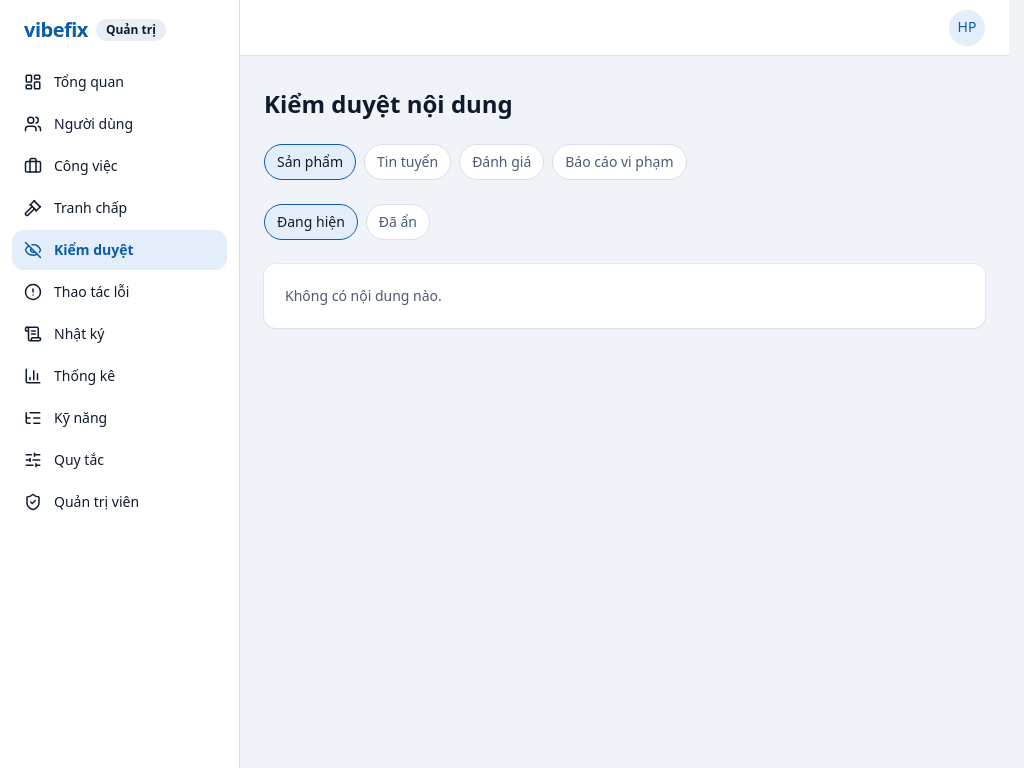
ADM-6 moderation (FR-60) › shows a recruitment note as filed, and leads to the Mentor with no way to hide it
Click the tab "Báo cáo vi phạm" at (619, 162), box [552,144,687,180]
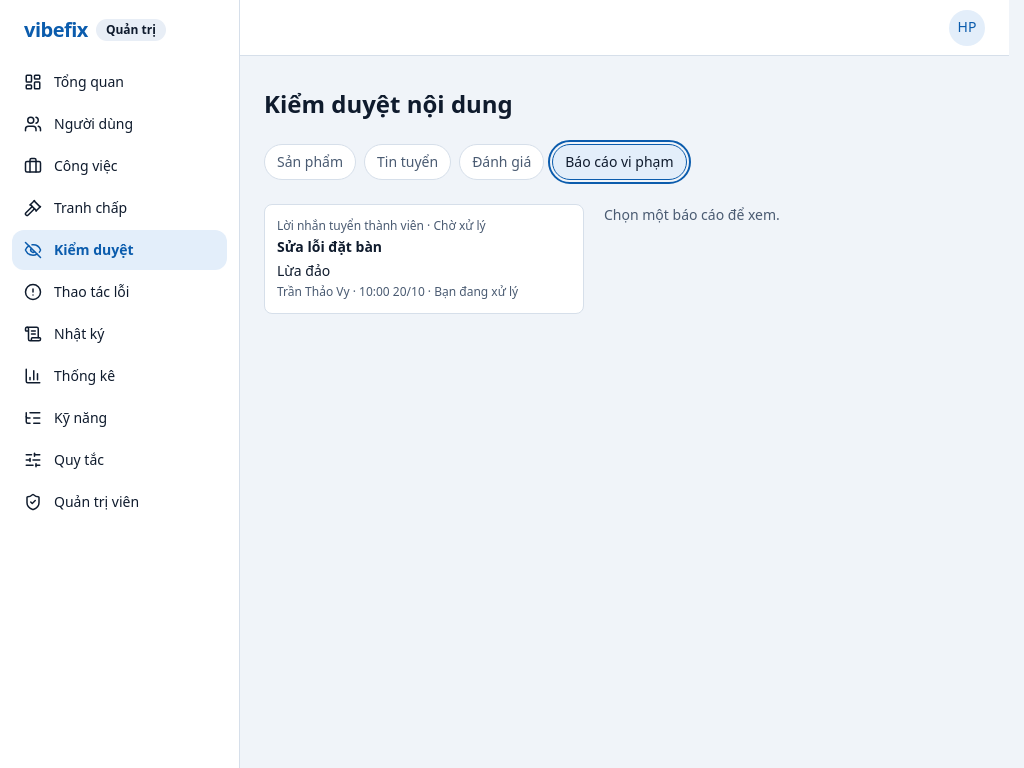
Click the button "Lừa đảo" at (350, 226), box [264,204,584,314]
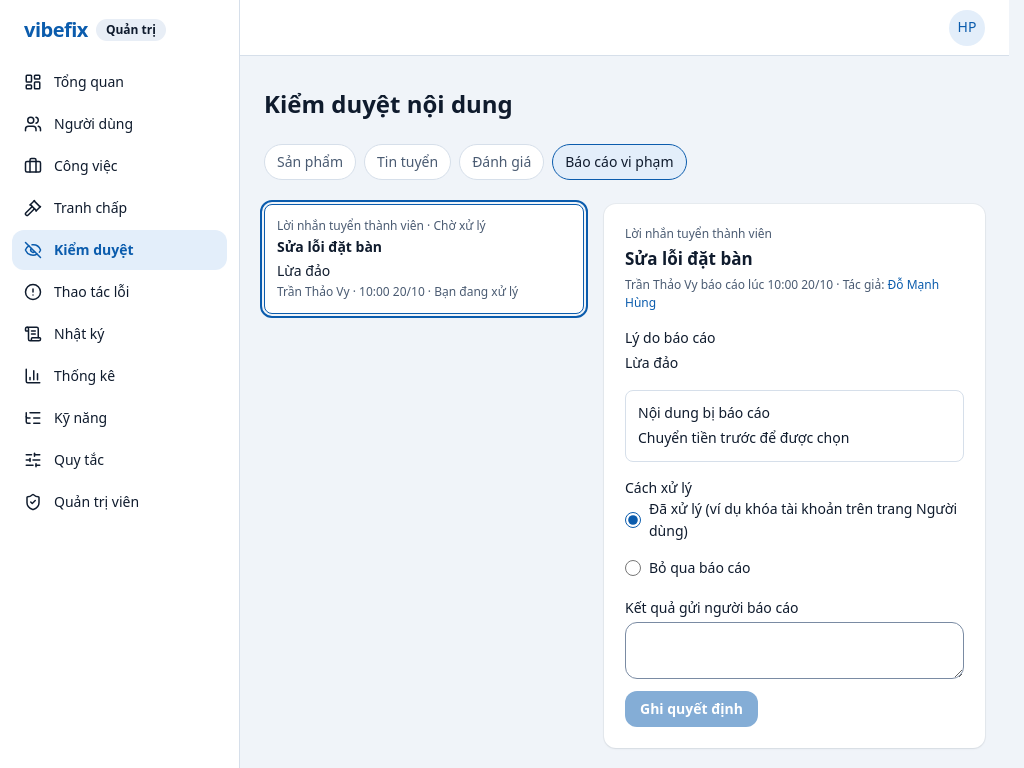
Expected: the text "Chuyển tiền trước để được chọn" is shown, [638,428,849,447]
Expected: the text "Lời nhắn tuyển thành viên" is shown, [625,225,772,242]
Expected: the radio button labelled "Đã xử lý (ví dụ khóa tài khoản trên trang Người dùng)" is shown, [625,512,641,528]
